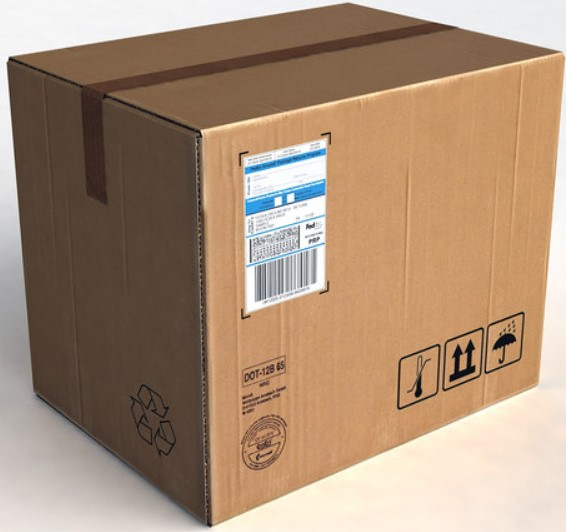stock: (10, 7, 566, 521)
